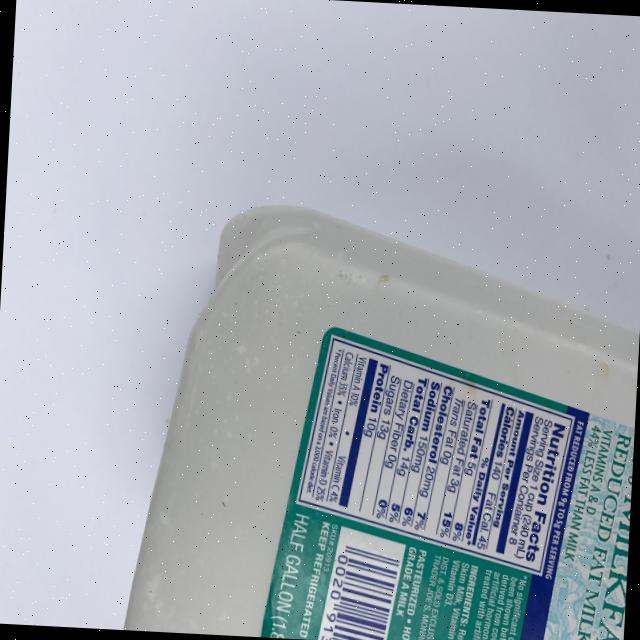plastic: (122, 196, 640, 640)
